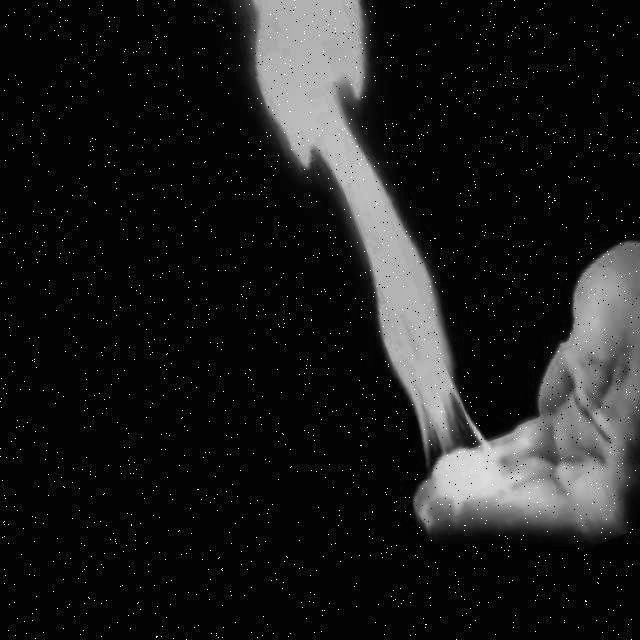Fire: (214, 0, 537, 535)
